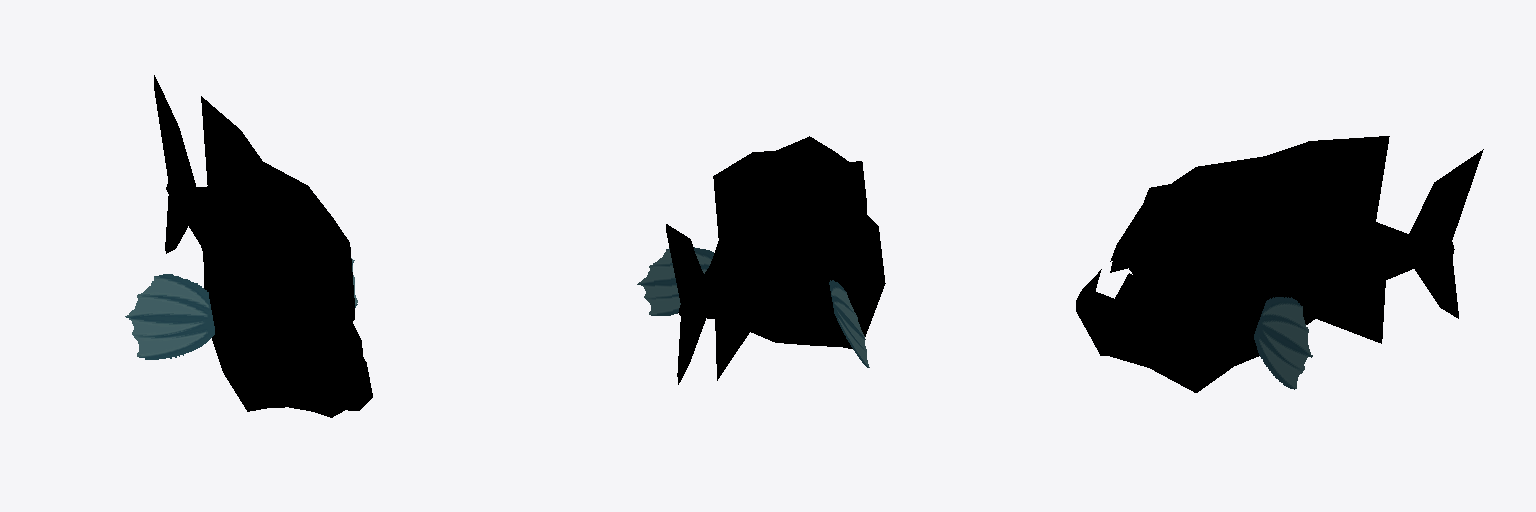
3 views of the same model, side by side, from view 1: azimuth 30°, elevation 25°; view 2: azimuth 150°, elevation 25°; view 3: azimuth 270°, elevation 25° (orthographic).
Size of the model in its own units: 0.8923 by 0.7744 by 1.19.
2 materials, 1 textured.